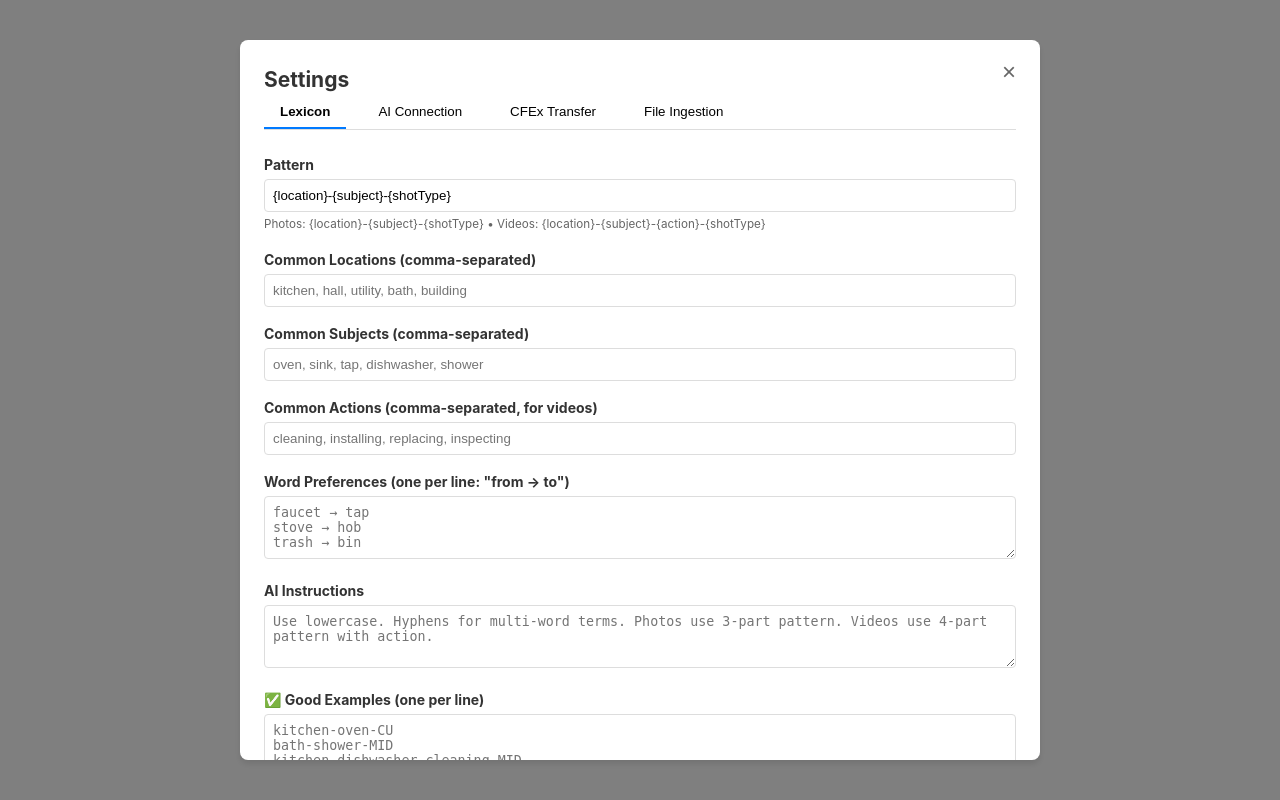
SettingsModal › AI Configuration Tab › should switch to AI Connection tab when clicked
What coordinates should you click on to do the following:
click the button "AI Connection"
I would click on:
 (420, 112)
Its box is [362, 96, 478, 128].
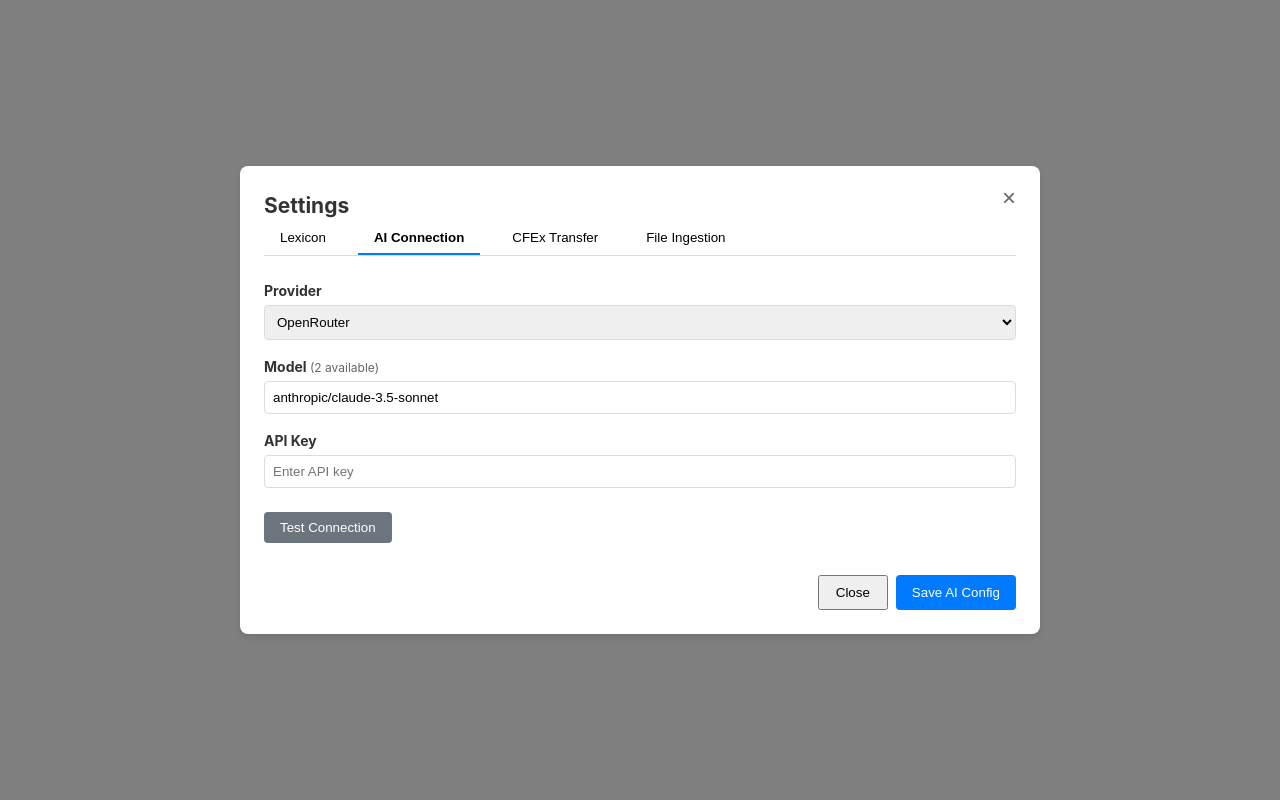
Result: the text "Provider" is shown at [264, 282, 322, 299]
Result: the text "Model" is shown at [264, 358, 310, 375]
Result: the text "API Key" is shown at [264, 432, 317, 449]
